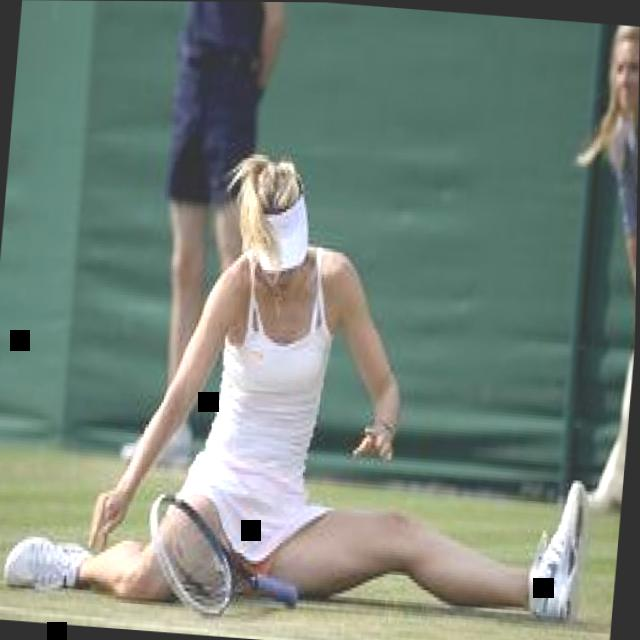Fall-Detected: (0, 97, 639, 633)
